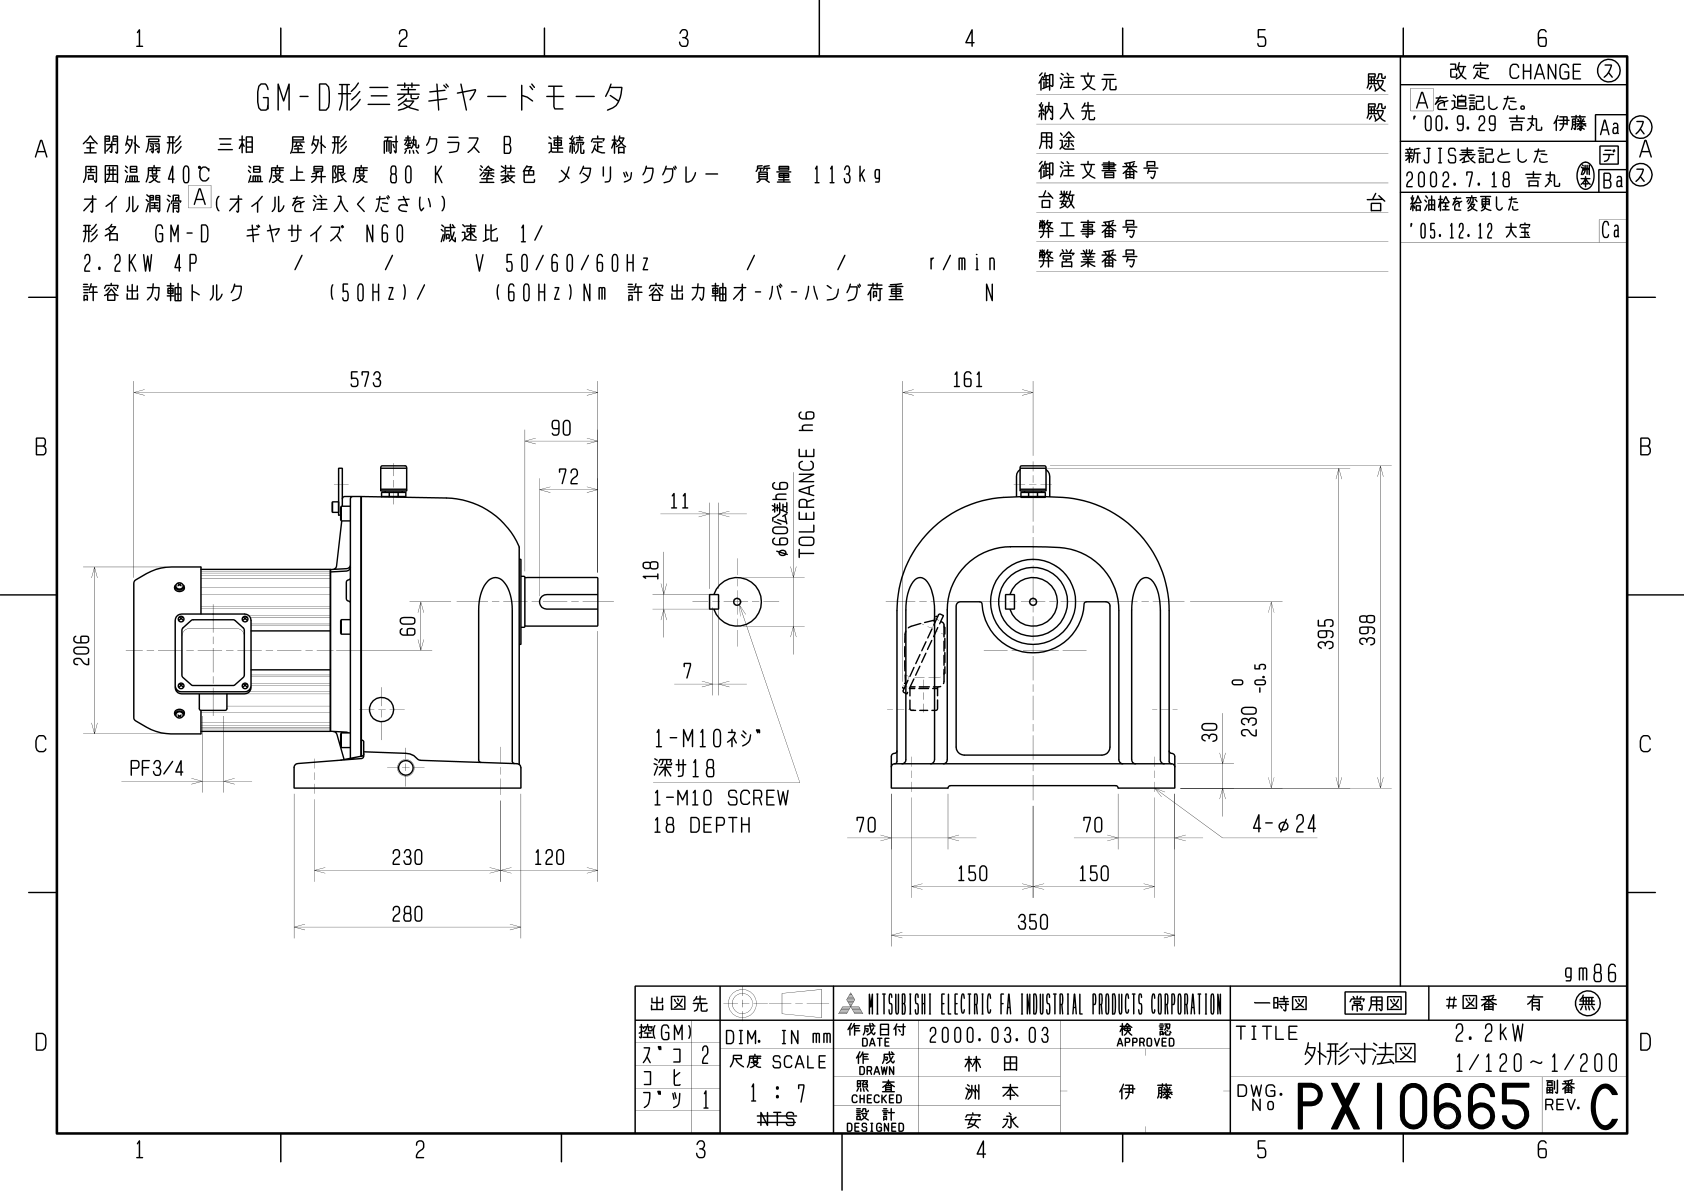GM_D_屋外＿三相_脚: (63, 327, 1395, 962)
